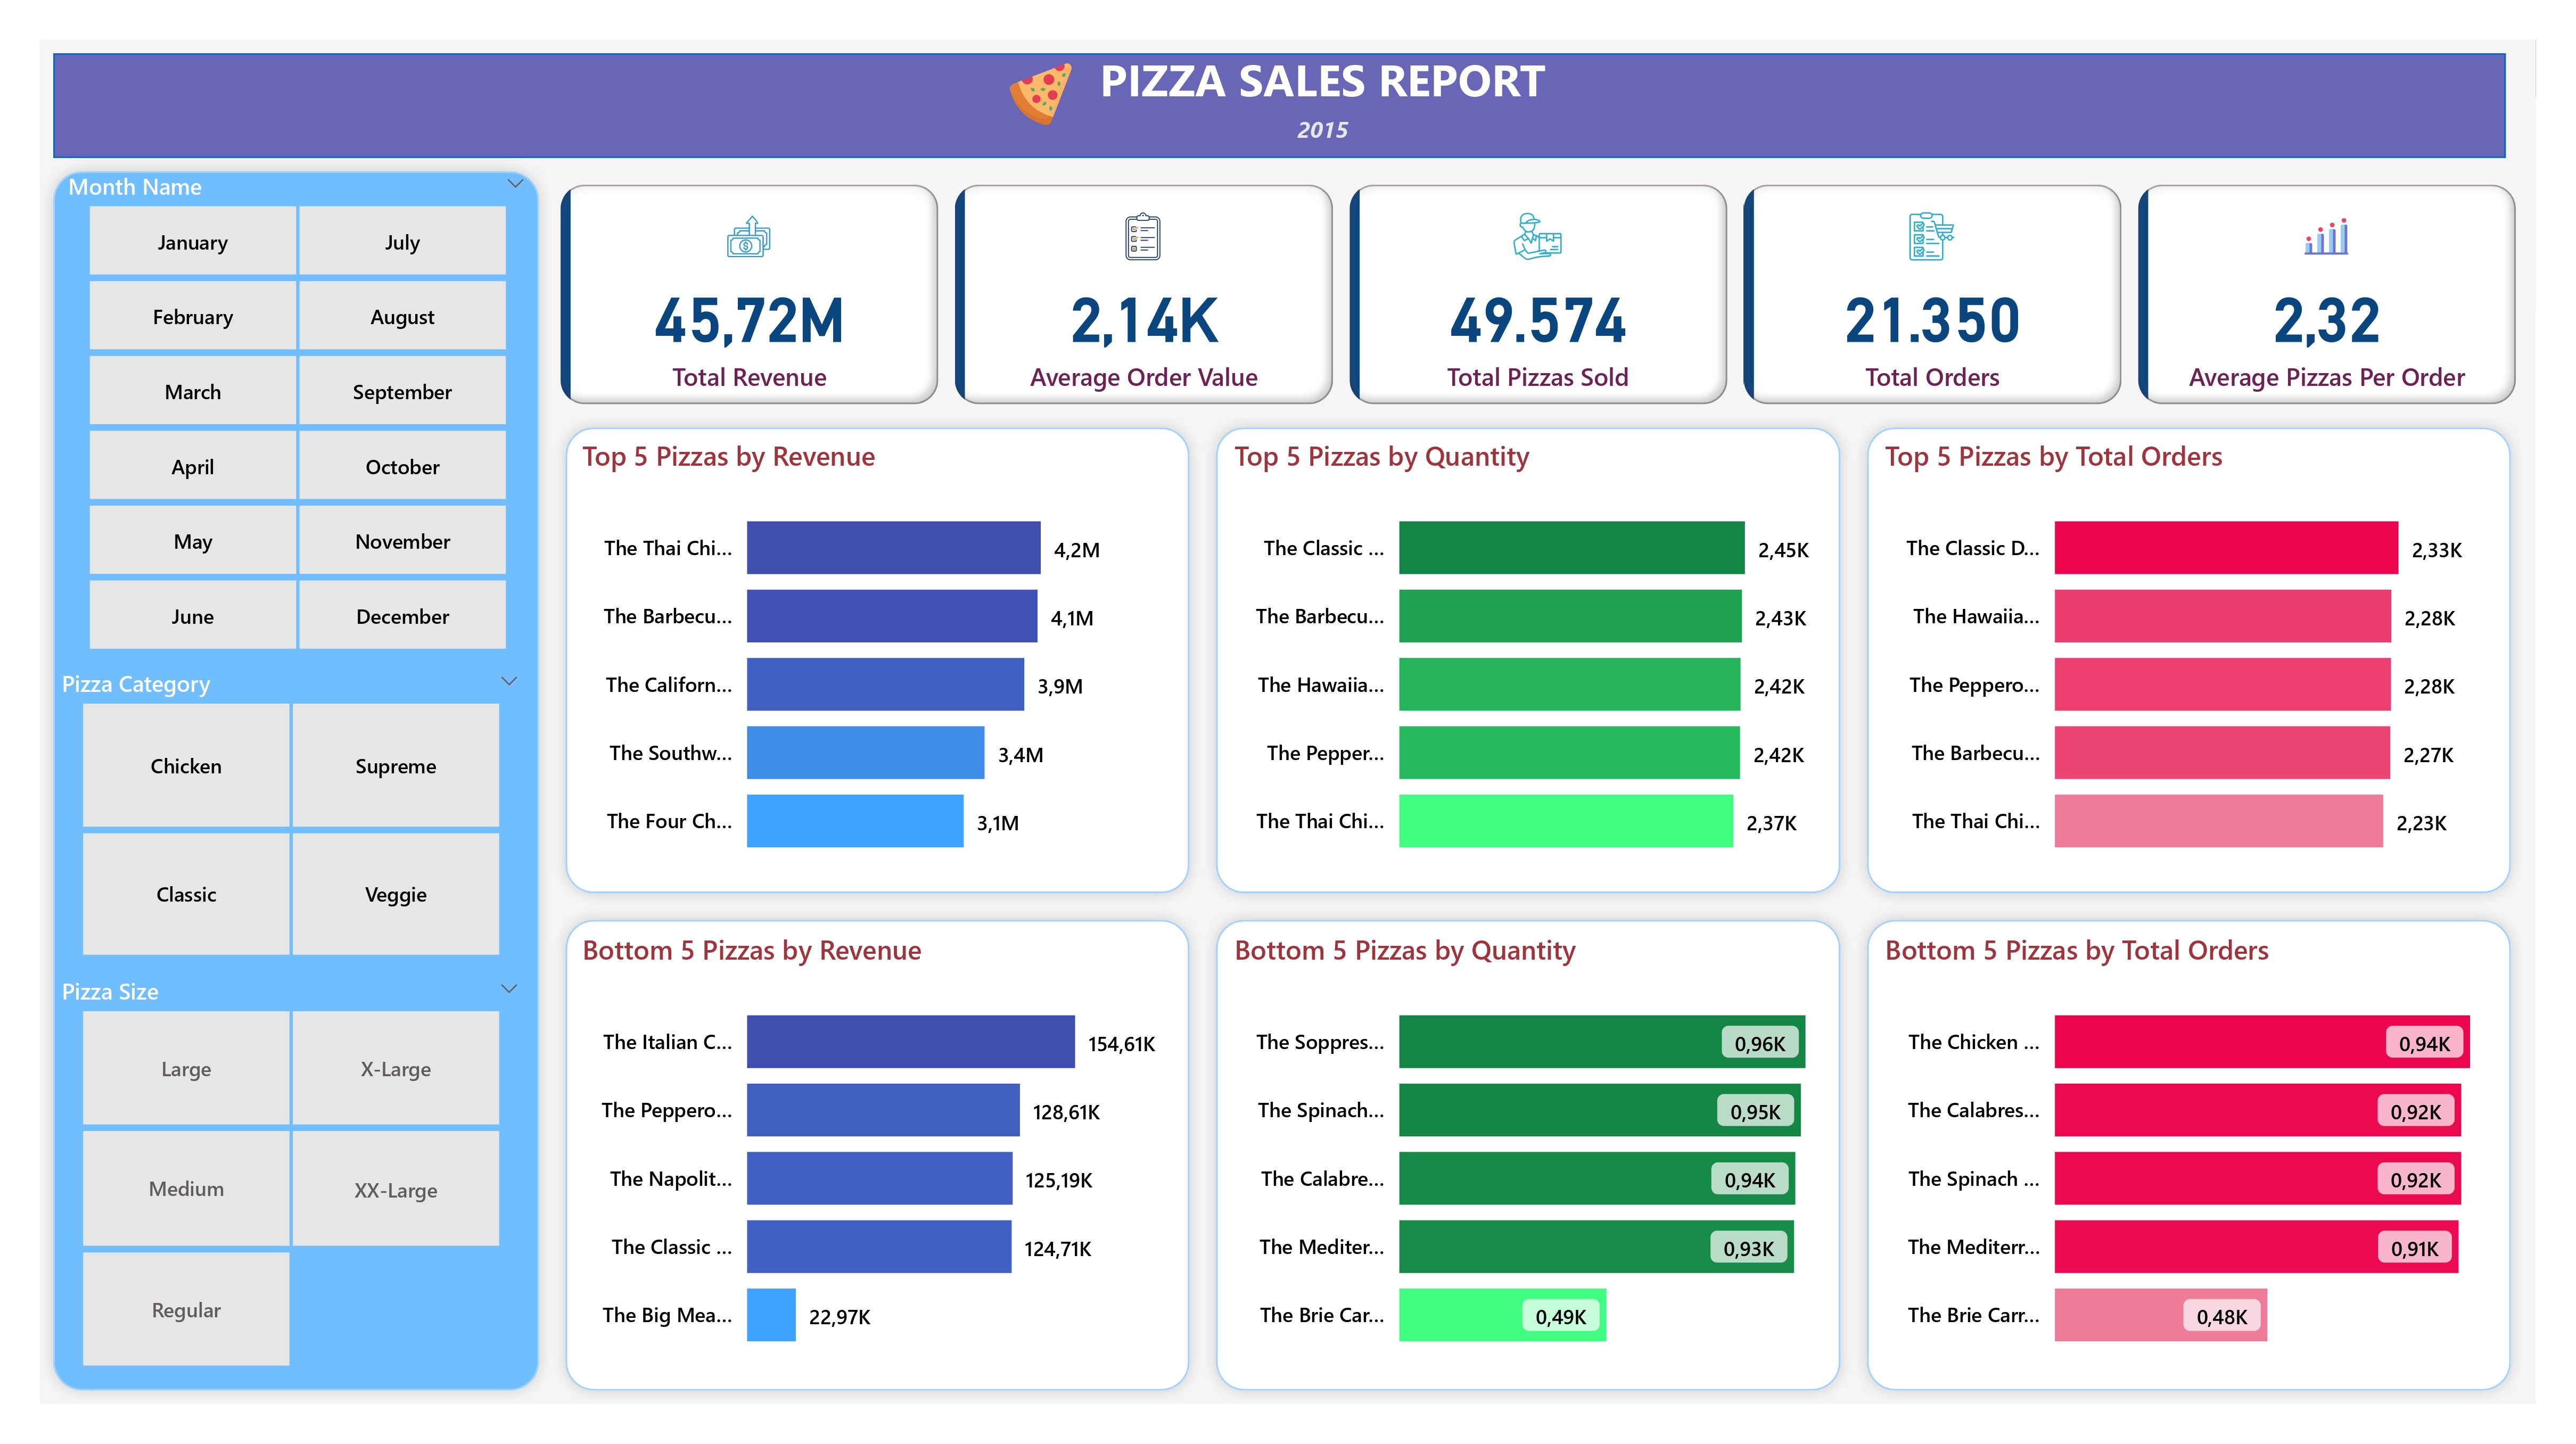

This screenshot's page, from the dashboard's own definition file:
{"tool":"powerbi","page":{"name":"Best/Worst Sellers","canvas":[1500,820],"ordinal":1},"visuals":[{"type":"shape","box":[0,71.4,308,748.6],"z":0},{"type":"cardVisual","fields":{"Data":["Key Measures.Total Revenue","Key Measures.Average Order Value","Key Measures.Total Pizzas Sold","Key Measures.Total Orders","Key Measures.Average Pizzas Per Order"]},"box":[308,81.6,1185.1,142.8],"z":1000},{"type":"shape","box":[7.8,7.8,1474.4,63.3],"z":2000},{"type":"textbox","box":[625.6,0,290,45.6],"z":3000},{"type":"textbox","box":[710.9,39.8,120.3,28.6],"z":4000},{"type":"image","box":[577,7,49,50],"z":5000},{"type":"shape","box":[307.5,225,391.2,296.2],"z":6000},{"type":"shape","box":[698.8,225,391.2,296.2],"z":7000},{"type":"shape","box":[1090.3,225.4,402.9,295.8],"z":8000},{"type":"shape","box":[307.5,521.2,391.2,298.8],"z":9000},{"type":"shape","box":[698.8,521.2,391.2,298.8],"z":10000},{"type":"shape","box":[1090.3,521.2,402.9,298.8],"z":11000},{"type":"barChart","title":"Top 5 Pizzas by Revenue","fields":{"Category":["pizza_sales.pizza_name"],"Y":["Key Measures.Total Revenue"]},"box":[321.2,238.8,363.8,268.8],"z":12000},{"type":"barChart","title":"Bottom 5 Pizzas by Revenue","fields":{"Category":["pizza_sales.pizza_name"],"Y":["Key Measures.Total Revenue"]},"box":[321.2,536.2,363.8,268.8],"z":13000},{"type":"barChart","title":"Top 5 Pizzas by Quantity","fields":{"Category":["pizza_sales.pizza_name"],"Y":["Key Measures.Total Pizzas Sold"]},"box":[712.5,238.8,363.8,268.8],"z":14000},{"type":"barChart","title":"Bottom 5 Pizzas by Quantity","fields":{"Category":["pizza_sales.pizza_name"],"Y":["Key Measures.Total Pizzas Sold"]},"box":[712.5,536.2,363.8,268.8],"z":15000},{"type":"barChart","title":"Top 5 Pizzas by Total Orders","fields":{"Category":["pizza_sales.pizza_name"],"Y":["Key Measures.Total Orders"]},"box":[1103.5,238.7,378.4,269.3],"z":16000},{"type":"barChart","title":"Bottom 5 Pizzas by Total Orders","fields":{"Category":["pizza_sales.pizza_name"],"Y":["Key Measures.Total Orders"]},"box":[1103.5,536.5,378.4,268.2],"z":17000},{"type":"slicer","fields":{"Values":["pizza_sales.Month Name"]},"box":[4,74,300,299],"z":18000},{"type":"slicer","fields":{"Values":["pizza_sales.pizza_category"]},"box":[0,373,300,184],"z":19000},{"type":"slicer","fields":{"Values":["pizza_sales.pizza_size"]},"box":[0,557.8,300,246.7],"z":20000},{"type":"shape","box":[8.2,365.1,291.7,15.3],"z":20001},{"type":"shape","box":[8.3,549.2,291.7,15.8],"z":20002}]}

Visuals, with their boxes in screenshot pixels (x1, y1, x2, y2):
shape: l=40, t=159, r=553, b=1404
cardVisual - Key Measures.Total Revenue x Key Measures.Average Order Value: l=553, t=176, r=2524, b=413
shape: l=53, t=53, r=2506, b=158
textbox: l=1081, t=40, r=1563, b=116
textbox: l=1223, t=106, r=1423, b=154
image: l=1000, t=52, r=1082, b=135
shape: l=552, t=414, r=1203, b=907
shape: l=1203, t=414, r=1854, b=907
shape: l=1854, t=415, r=2525, b=907
shape: l=552, t=907, r=1203, b=1404
shape: l=1203, t=907, r=1854, b=1404
shape: l=1854, t=907, r=2525, b=1404
"Top 5 Pizzas by Revenue" barChart: l=574, t=437, r=1180, b=885
"Bottom 5 Pizzas by Revenue" barChart: l=574, t=932, r=1180, b=1379
"Top 5 Pizzas by Quantity" barChart: l=1225, t=437, r=1831, b=885
"Bottom 5 Pizzas by Quantity" barChart: l=1225, t=932, r=1831, b=1379
"Top 5 Pizzas by Total Orders" barChart: l=1877, t=437, r=2506, b=885
"Bottom 5 Pizzas by Total Orders" barChart: l=1877, t=933, r=2506, b=1379
slicer - pizza_sales.Month Name: l=47, t=163, r=546, b=661
slicer - pizza_sales.pizza_category: l=40, t=661, r=539, b=967
slicer - pizza_sales.pizza_size: l=40, t=968, r=539, b=1379
shape: l=54, t=647, r=539, b=673
shape: l=54, t=954, r=539, b=980
